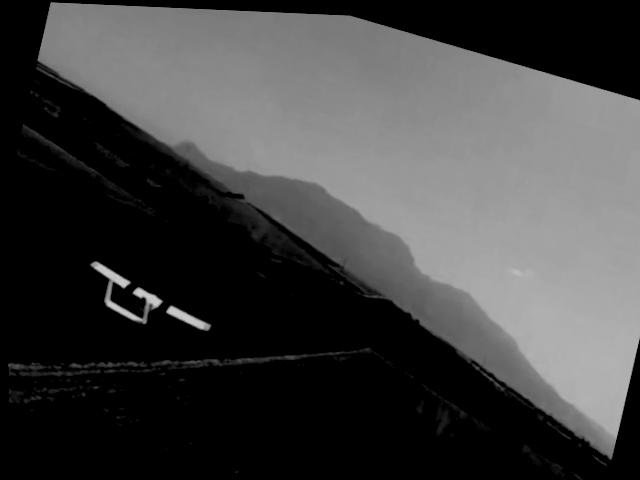hedef: (68, 241, 226, 358)
